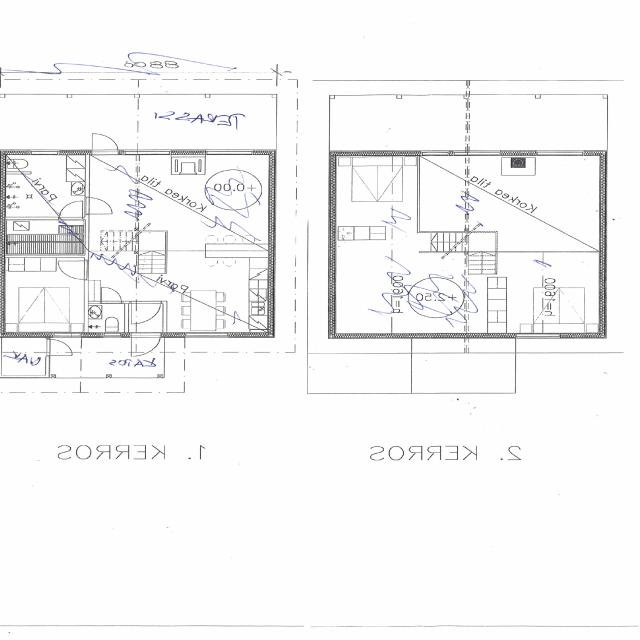door: (132, 332, 160, 358), (132, 301, 160, 324), (93, 132, 118, 154), (58, 261, 88, 279), (59, 200, 82, 220), (85, 197, 111, 214), (46, 339, 72, 355), (102, 287, 122, 303)
